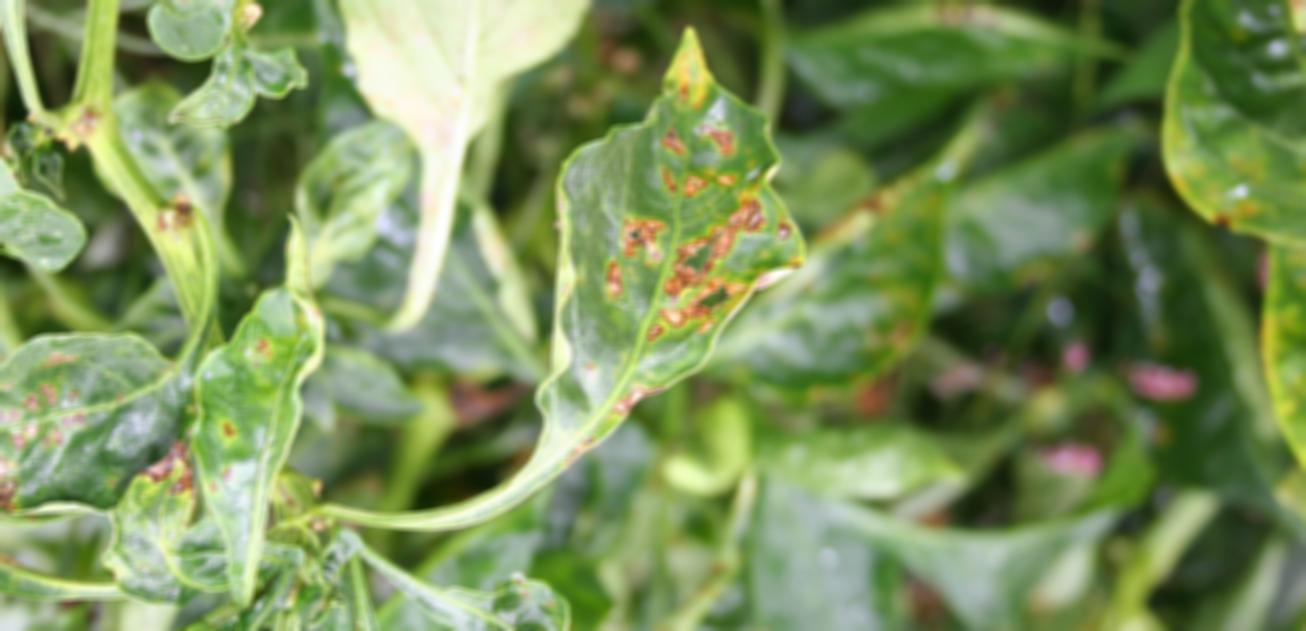Tomato leaf bacterial spot: (484, 22, 827, 495), (175, 273, 355, 582), (1143, 0, 1306, 286), (0, 329, 167, 558)
